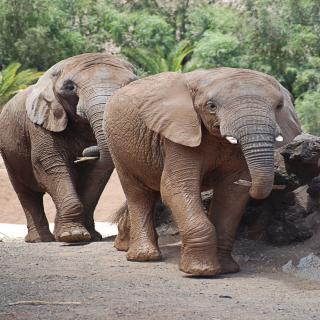Elephant: (101, 67, 306, 283), (0, 52, 151, 250)
